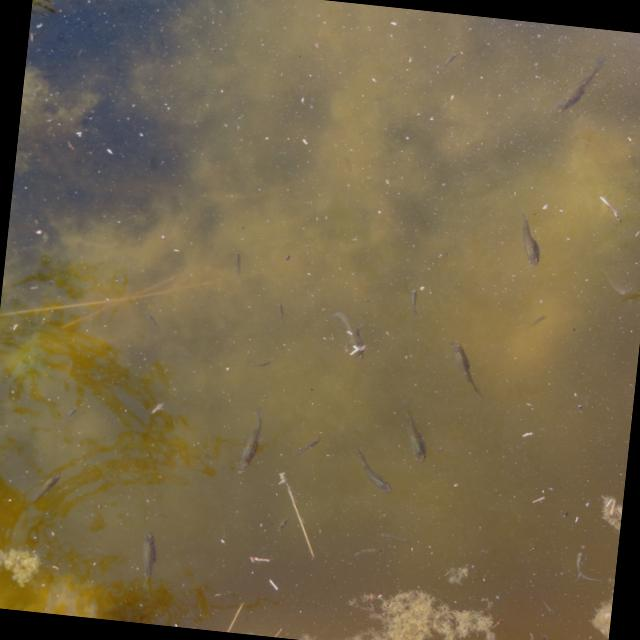Sivrisinek Baligi: (542, 46, 613, 118), (440, 339, 493, 396), (230, 402, 272, 472), (128, 529, 164, 596), (508, 211, 550, 268), (348, 445, 394, 496), (396, 408, 436, 462), (329, 311, 371, 358), (398, 282, 430, 320), (224, 246, 252, 284), (30, 472, 59, 505), (296, 433, 320, 458), (272, 300, 290, 320), (248, 356, 272, 370), (142, 313, 162, 329)
